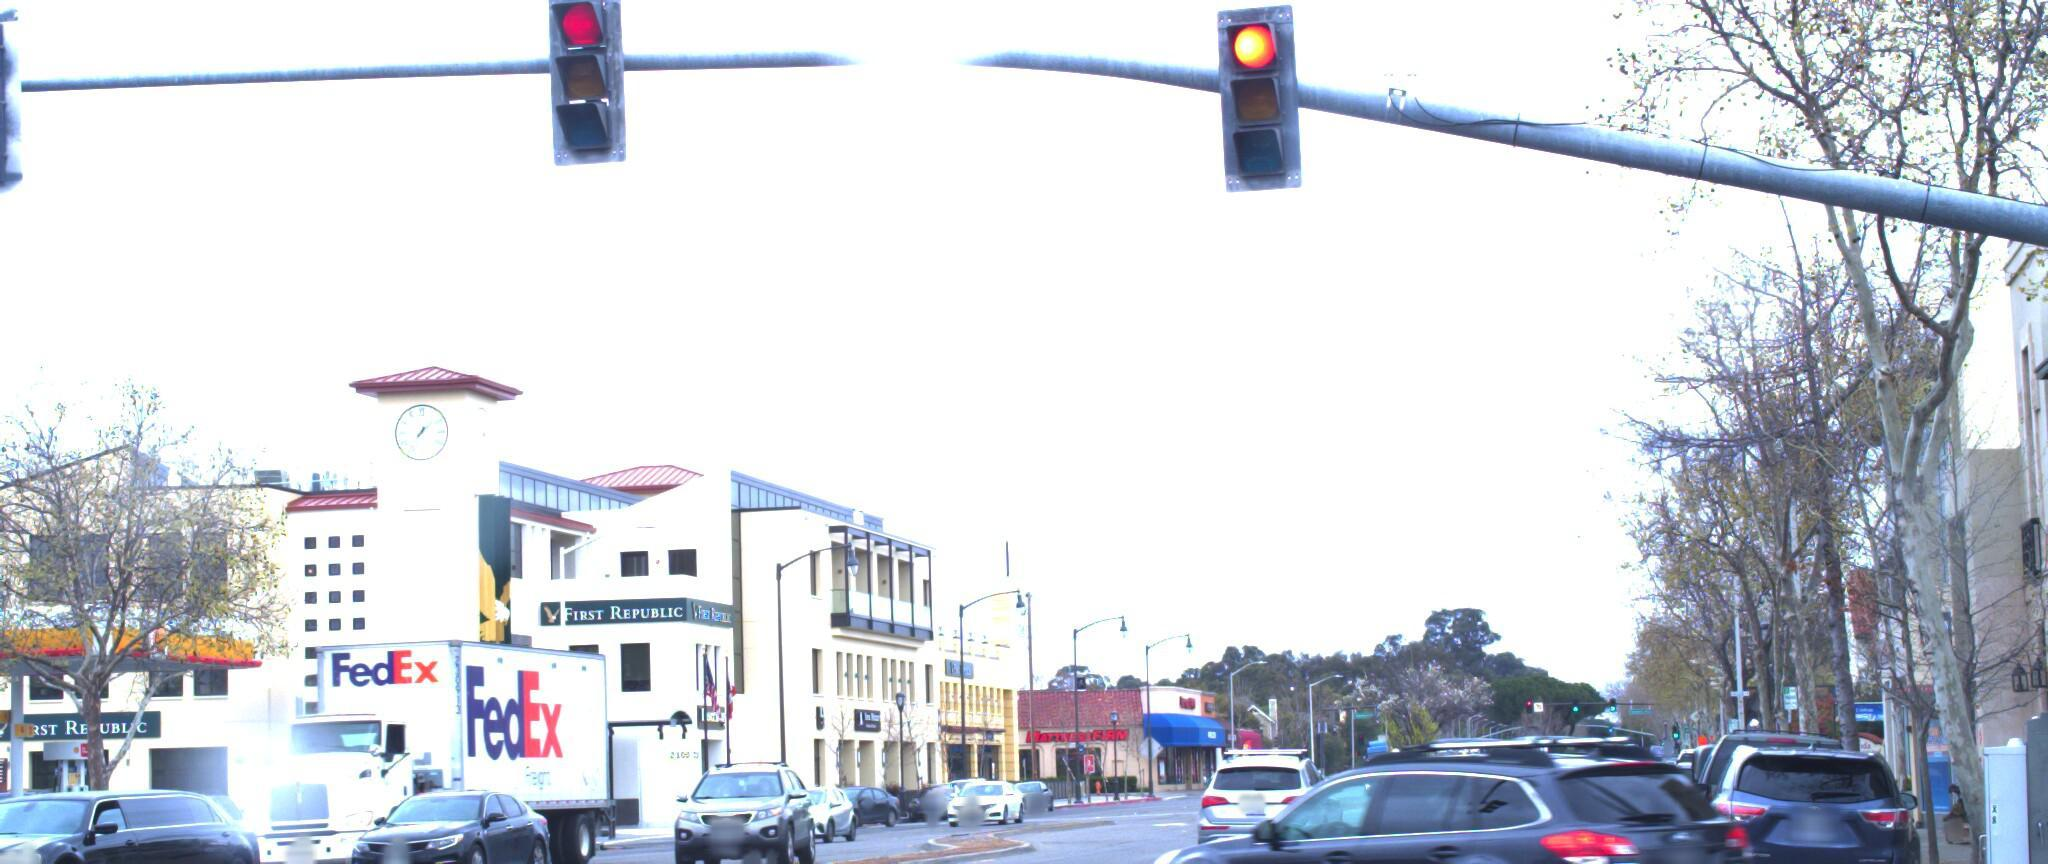car: (1114, 717, 1796, 864), (1668, 733, 1927, 864), (1652, 719, 1840, 864), (344, 765, 567, 864), (0, 800, 263, 864), (657, 762, 818, 864), (1198, 754, 1340, 864)
truck: (229, 629, 628, 864)
